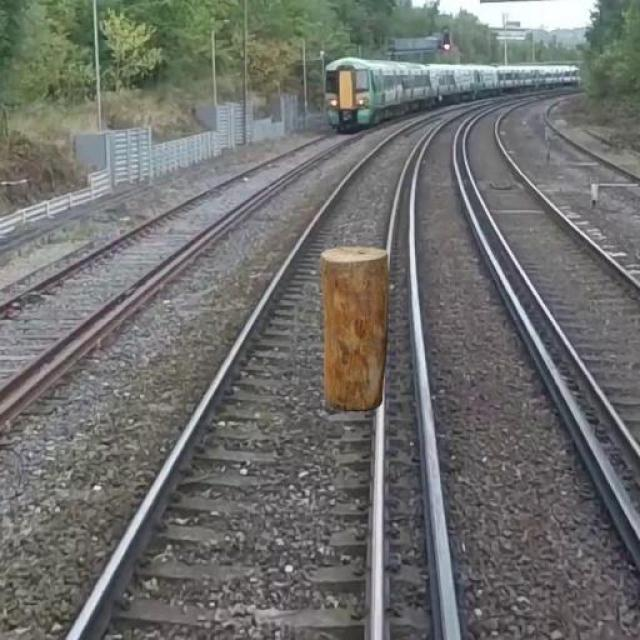Branches: (307, 239, 406, 417)
